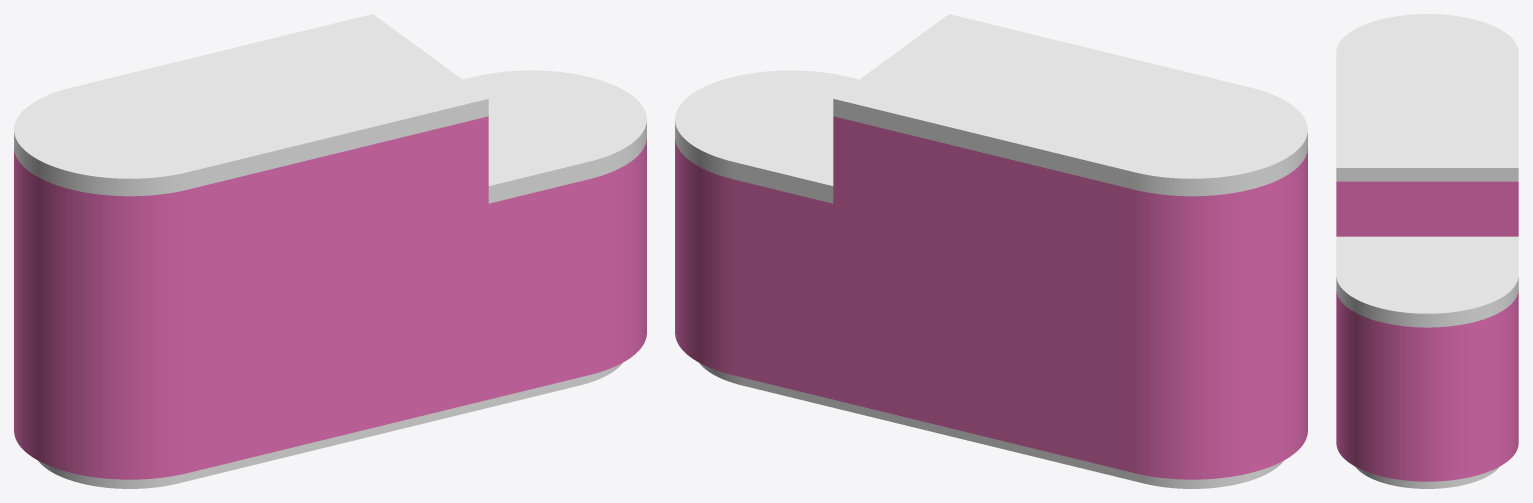
File: counter-set-01-08.glb
3 views of the same model, side by side, from view 1: azimuth 30°, elevation 25°; view 2: azimuth 150°, elevation 25°; view 3: azimuth 270°, elevation 25° (orthographic). The views are drawn at different scales.
Parts seen in each view (by area): view 1: 3DGeom-11, 3DGeom-10; view 2: 3DGeom-11, 3DGeom-10; view 3: 3DGeom-10, 3DGeom-11.
Boxes of the visible parts, <box> form: 3DGeom-11: <box>14,116,646,479</box>; 3DGeom-10: <box>14,14,646,488</box>; 3DGeom-11: <box>675,116,1307,479</box>; 3DGeom-10: <box>675,14,1307,488</box>; 3DGeom-10: <box>1336,14,1518,488</box>; 3DGeom-11: <box>1336,181,1518,481</box>.
Bounding box in the file's own units: 1.8 × 0.91 × 0.6.
